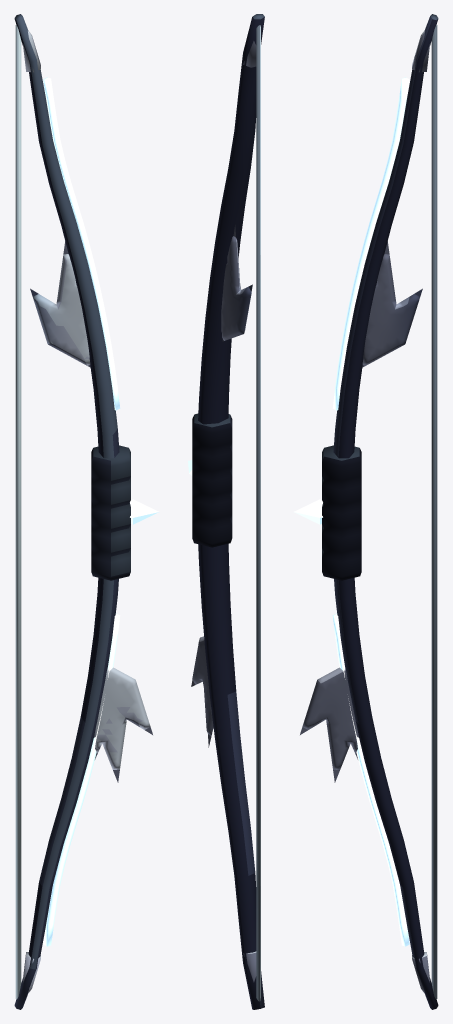
File: bw_storm_bow.glb
3 views of the same model, side by side, from view 1: azimuth 90°, elevation 25°; view 2: azimuth 210°, elevation 25°; view 3: azimuth 270°, elevation 25° (orthographic).
Parts seen in each view (by area): view 1: Weapon; view 2: Weapon; view 3: Weapon.
Boxes of the visible parts, bbox=[...] form: Weapon: bbox=[14, 14, 158, 1009]; Weapon: bbox=[188, 14, 264, 1009]; Weapon: bbox=[294, 14, 438, 1009].
Bounding box in the file's own units: 0.052 × 1.24 × 0.1647.
